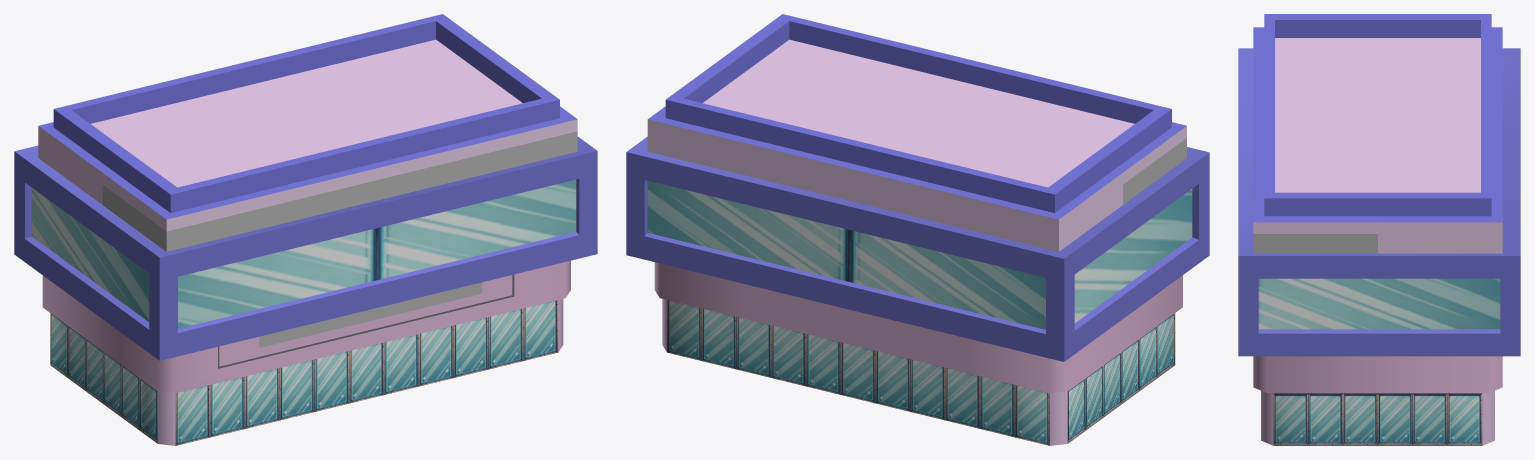
The model's file is Building_13.fbx.
3 renders of one model, left to right at view 1: azimuth 30°, elevation 25°; view 2: azimuth 150°, elevation 25°; view 3: azimuth 270°, elevation 25°, orthographic. The views are drawn at different scales.
Parts seen in each view (by area): view 1: Building_13; view 2: Building_13; view 3: Building_13.
Boxes of the visible parts, x1,y1,x2,y2 form: Building_13: [14, 14, 597, 445]; Building_13: [626, 14, 1209, 445]; Building_13: [1238, 14, 1520, 445].
Bounding box in the file's own units: 1972 × 1080 × 1135.
